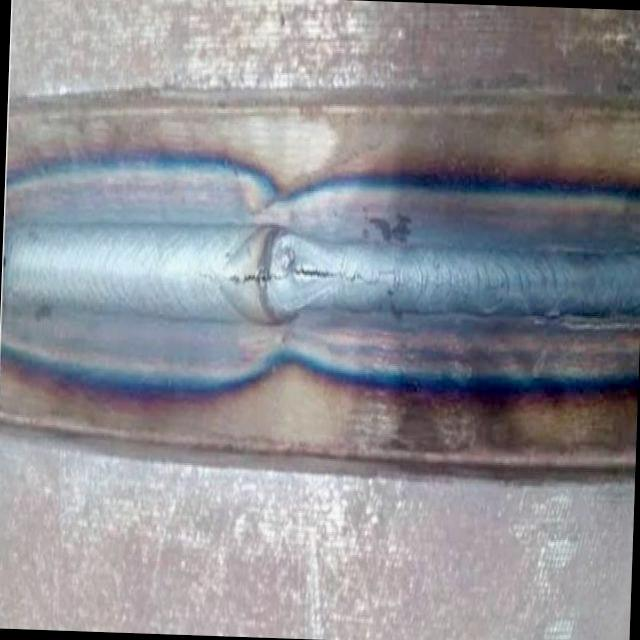defect: (223, 262, 407, 300)
